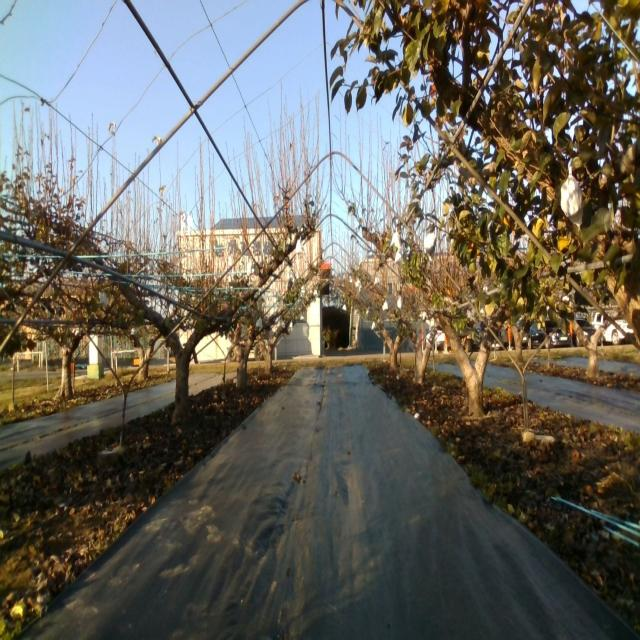pearbags: (560, 174, 584, 228), (423, 232, 437, 254)
